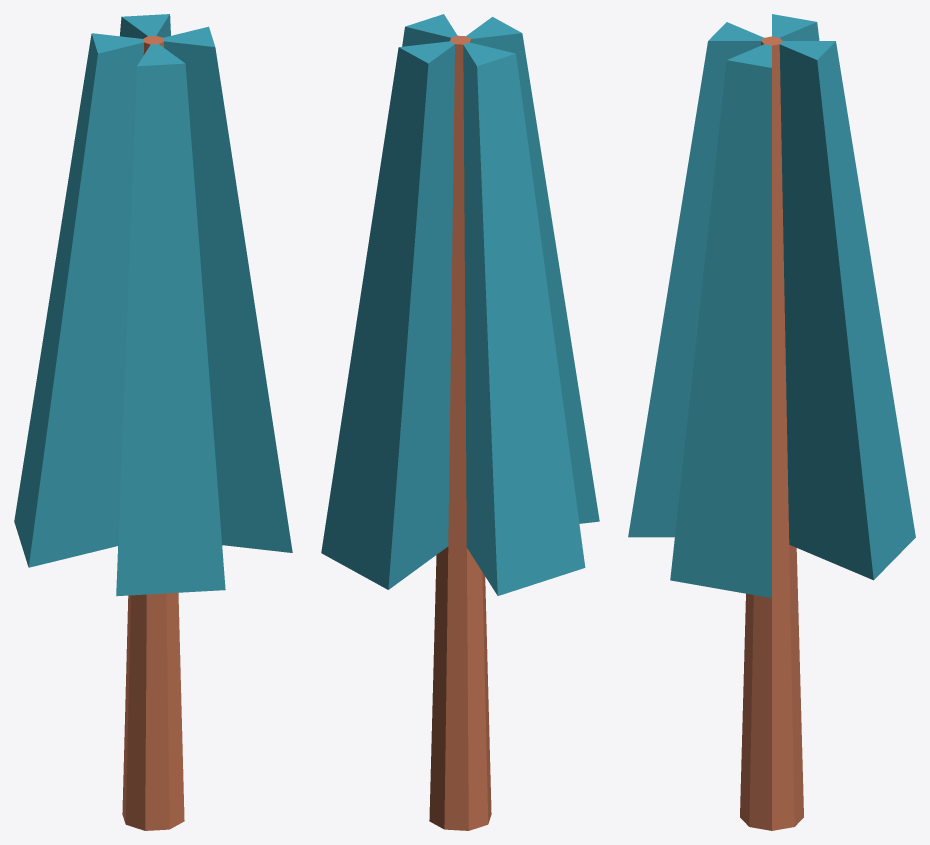
Rendered from Tree_28_summer_blue_mat.fbx.
The picture shows the model from 3 angles, left to right: view 1: azimuth 30°, elevation 25°; view 2: azimuth 150°, elevation 25°; view 3: azimuth 270°, elevation 25°; orthographic projection.
Visible parts, largest first — view 1: Tree_28_summer_blue_mat; view 2: Tree_28_summer_blue_mat; view 3: Tree_28_summer_blue_mat.
Boxes of the visible parts, x1=… form: Tree_28_summer_blue_mat: x1=14, y1=14, x2=292, y2=830; Tree_28_summer_blue_mat: x1=321, y1=14, x2=599, y2=830; Tree_28_summer_blue_mat: x1=628, y1=14, x2=915, y2=830.
Bounding box in the file's own units: 98.97 × 294 × 98.97.
